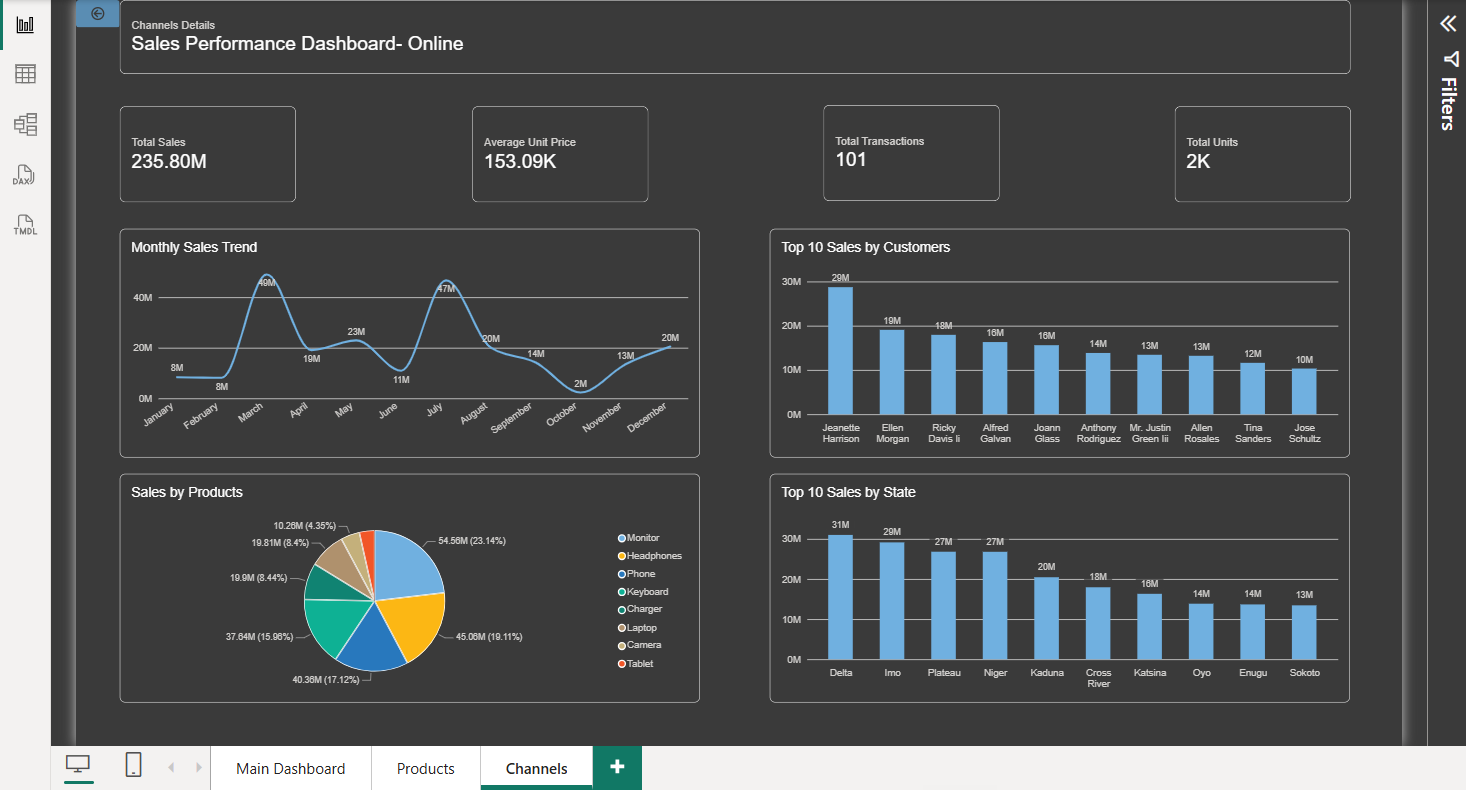

This screenshot's page, from the dashboard's own definition file:
{"tool":"powerbi","page":{"name":"Channels","canvas":[1920,1080],"ordinal":2},"visuals":[{"type":"cardVisual","fields":{"Data":["Fact_Sales.Total Sales"]},"box":[64.1,153.9,255.2,140],"z":0},{"type":"cardVisual","fields":{"Data":["Fact_Sales.Average Unit Price"]},"box":[573.1,154.4,255.2,140],"z":1000},{"type":"cardVisual","fields":{"Data":["Fact_Sales.Total Transactions"]},"box":[1082.1,152.3,255.2,140],"z":2000},{"type":"cardVisual","fields":{"Data":["Fact_Sales.Total Units"]},"box":[1591.1,154.4,255.2,140],"z":3000},{"type":"cardVisual","fields":{"Data":["Fact_Sales.Dynamic Title_Channel"]},"box":[63.8,0,1782.5,107],"z":4000},{"type":"lineChart","title":"Monthly Sales Trend","fields":{"Category":["DimDate.Month"],"Y":["Fact_Sales.Total Sales"]},"box":[64.1,331.4,840.3,331.4],"z":5000},{"type":"lineStackedColumnComboChart","title":"Top 10 Sales by State","fields":{"Category":["DimState.State"],"Y":["Fact_Sales.Total Sales"]},"box":[1004.9,686.3,840.3,331.4],"z":6000},{"type":"pieChart","title":"Sales by Products","fields":{"Category":["DimProduct.Product"],"Y":["Fact_Sales.Total Sales"]},"box":[64.1,686.3,840.3,331.4],"z":7000},{"type":"clusteredColumnChart","title":"Top 10 Sales by Customers","fields":{"Category":["DimCustomer.Customer Name"],"Y":["Fact_Sales.Total Sales"]},"box":[1004.9,331.4,840.3,331.4],"z":8000},{"type":"actionButton","box":[0,0,63.3,39.8],"z":9000}]}

Visuals, with their boxes on the page's 1920x1080 design canvas (x1, y1, x2, y2). These are canvas units, not pixel positions in the 1466x790 screenshot, which may show the page scaled, cropped or inside an application window:
cardVisual - Fact_Sales.Total Sales: {"x1": 64, "y1": 154, "x2": 319, "y2": 294}
cardVisual - Fact_Sales.Average Unit Price: {"x1": 573, "y1": 154, "x2": 828, "y2": 294}
cardVisual - Fact_Sales.Total Transactions: {"x1": 1082, "y1": 152, "x2": 1337, "y2": 292}
cardVisual - Fact_Sales.Total Units: {"x1": 1591, "y1": 154, "x2": 1846, "y2": 294}
cardVisual - Fact_Sales.Dynamic Title_Channel: {"x1": 64, "y1": 0, "x2": 1846, "y2": 107}
"Monthly Sales Trend" lineChart: {"x1": 64, "y1": 331, "x2": 904, "y2": 663}
"Top 10 Sales by State" lineStackedColumnComboChart: {"x1": 1005, "y1": 686, "x2": 1845, "y2": 1018}
"Sales by Products" pieChart: {"x1": 64, "y1": 686, "x2": 904, "y2": 1018}
"Top 10 Sales by Customers" clusteredColumnChart: {"x1": 1005, "y1": 331, "x2": 1845, "y2": 663}
actionButton: {"x1": 0, "y1": 0, "x2": 63, "y2": 40}
